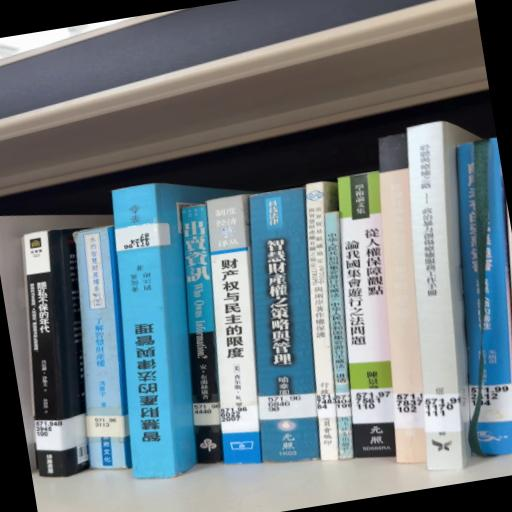reverse: (112, 184, 251, 479)
